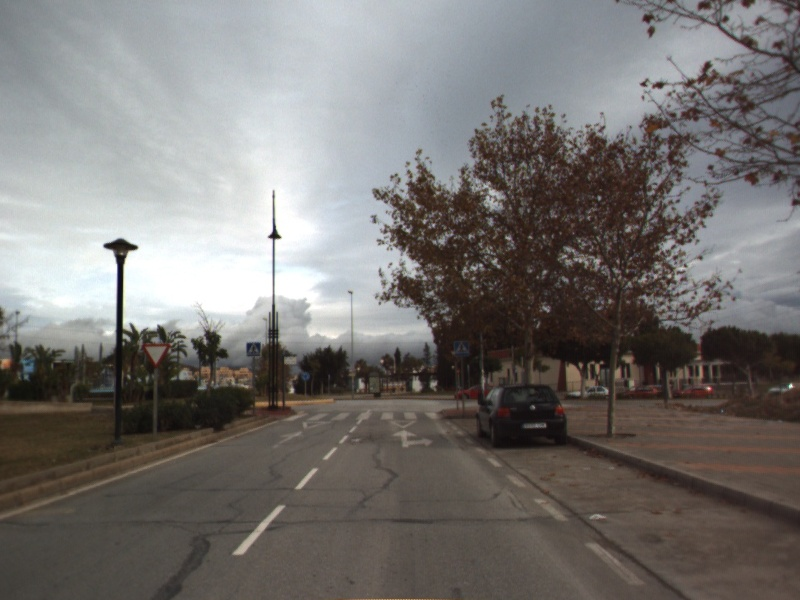STRAIGHT: (270, 428, 307, 450)
STRAIGHT_RIGHT: (390, 427, 436, 449)
